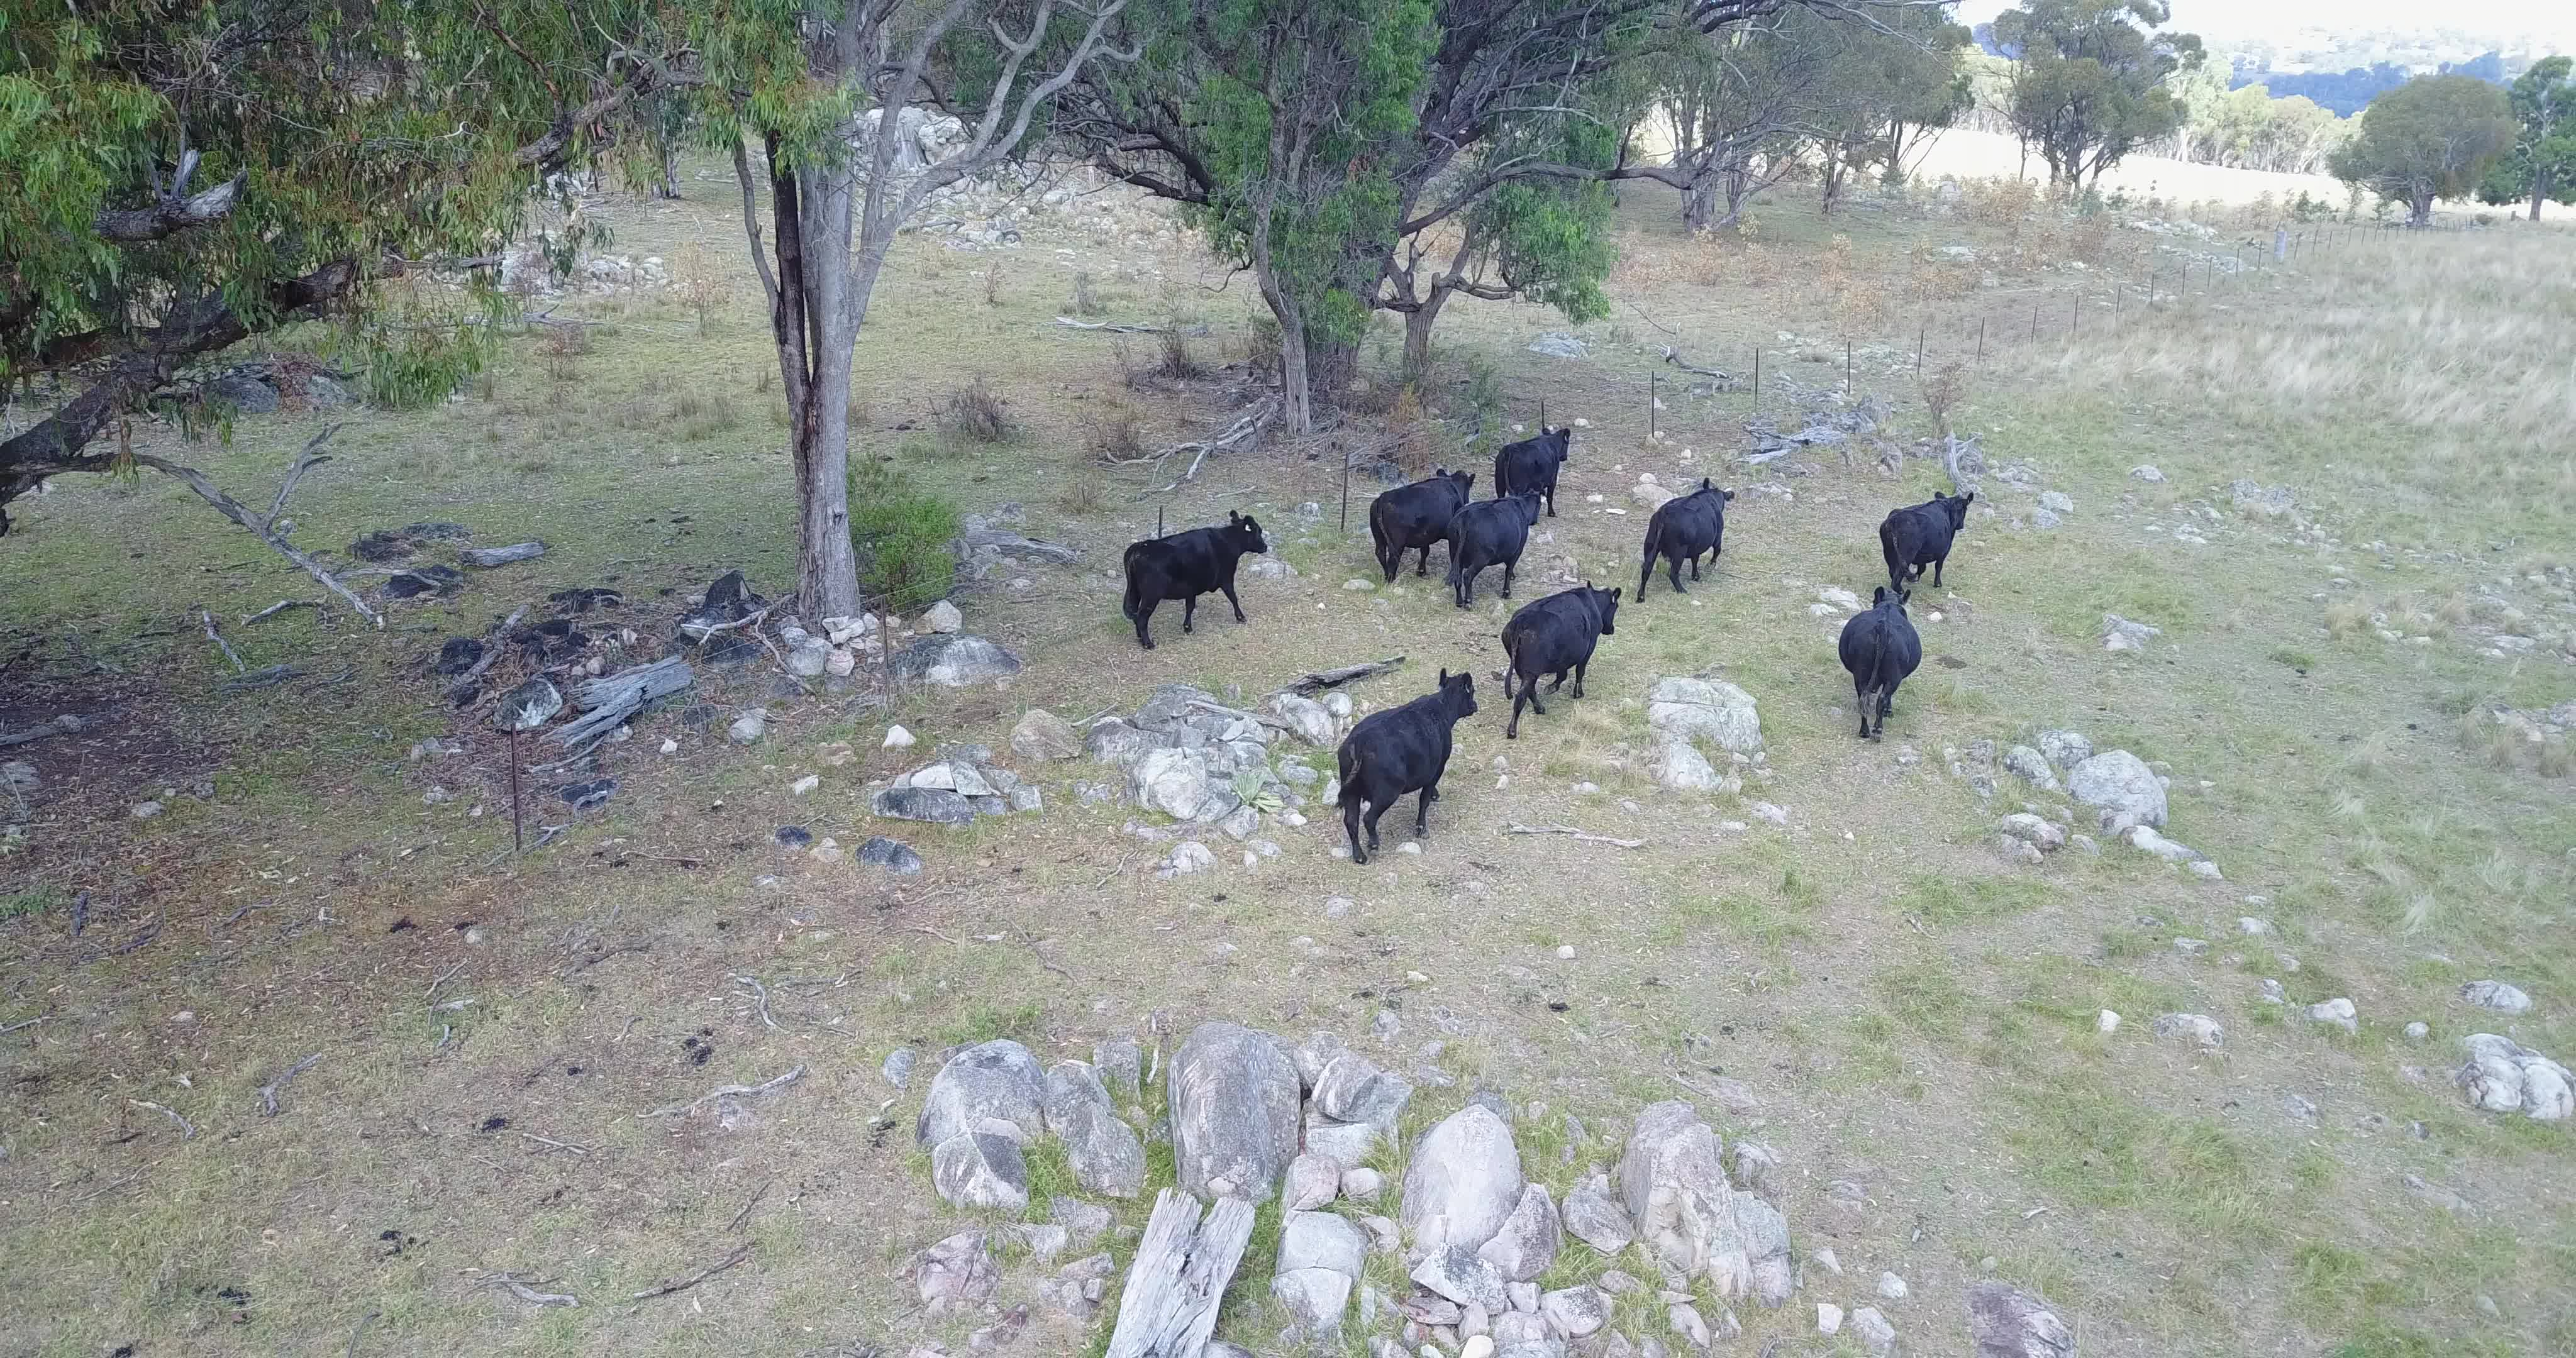cattle: (1329, 665, 1491, 866), (1114, 518, 1271, 651), (1501, 588, 1624, 739), (1826, 600, 1930, 751), (1637, 480, 1736, 603), (1365, 470, 1474, 578), (1879, 487, 1981, 586), (1452, 496, 1540, 601), (1492, 424, 1574, 496)
